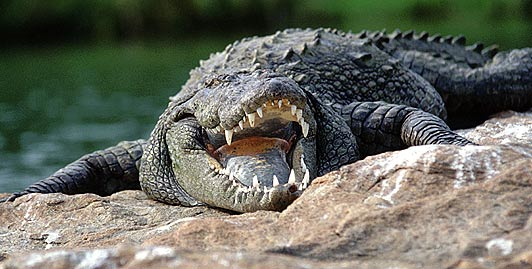Crocodile: (11, 26, 532, 214)
